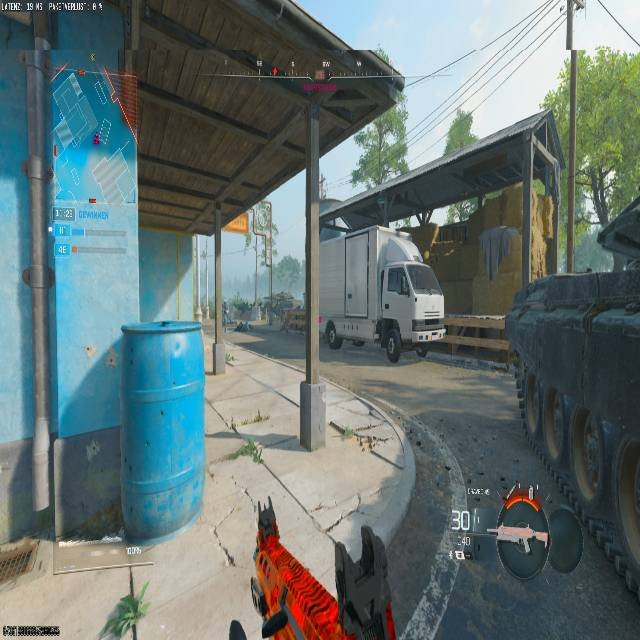player: (374, 312, 402, 365), (322, 316, 339, 350)
